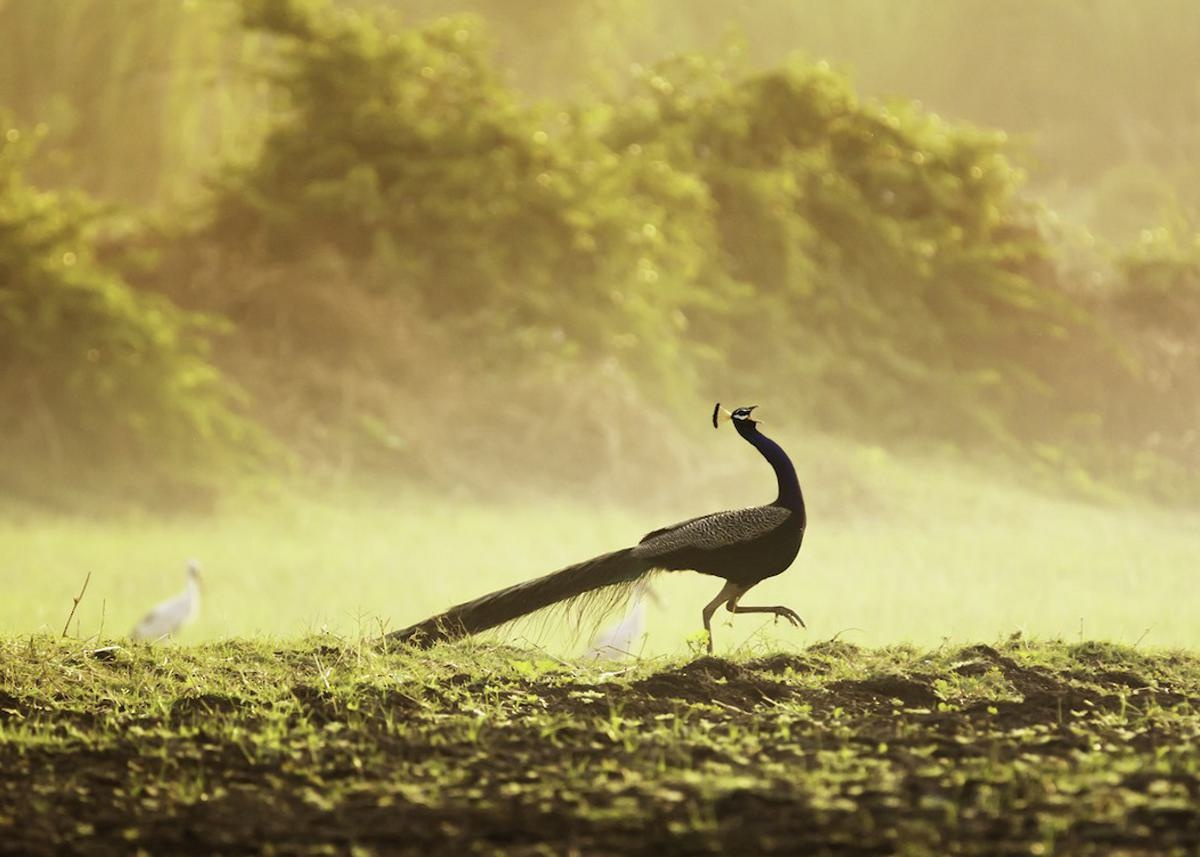peacock: (364, 379, 837, 713)
